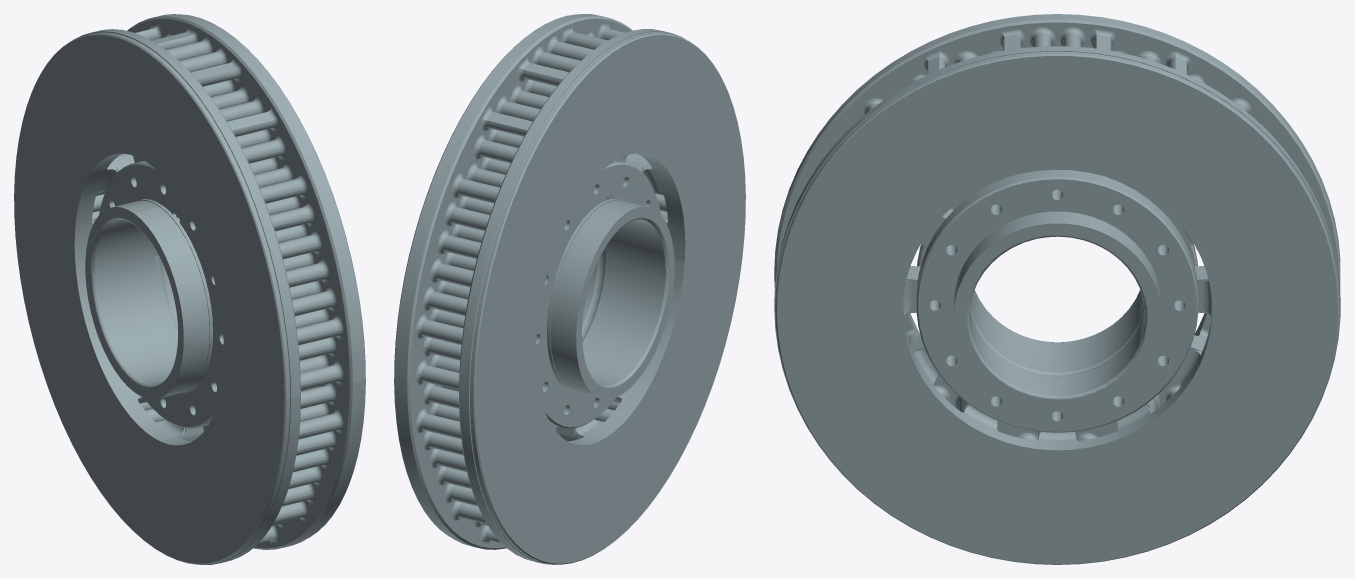
Rendered from start_model_step.glb.
3 views of the same model, side by side, from view 1: azimuth 30°, elevation 25°; view 2: azimuth 150°, elevation 25°; view 3: azimuth 270°, elevation 25° (orthographic). The views are drawn at different scales.
Parts seen in each view (by area): view 1: empty_3, empty_2; view 2: empty_3, empty_2; view 3: empty_3, empty_2.
Boxes of the visible parts, bbox=[...] form: empty_3: bbox=[14, 14, 365, 564]; empty_2: bbox=[85, 161, 223, 428]; empty_3: bbox=[394, 14, 745, 564]; empty_2: bbox=[536, 160, 674, 428]; empty_3: bbox=[774, 14, 1340, 564]; empty_2: bbox=[916, 169, 1198, 432].
Size of the model in its own units: 150 by 640 by 640.
